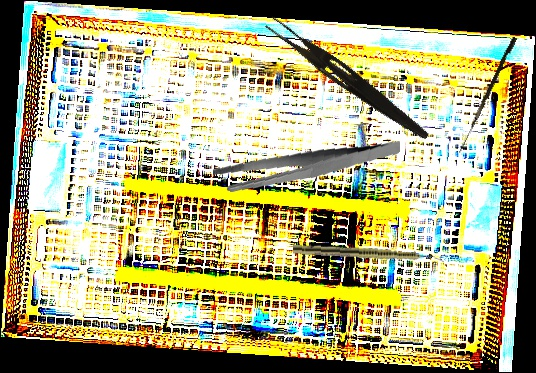Dressing Forceps: (260, 15, 436, 143), (211, 125, 401, 206)
Handpiece: (292, 244, 445, 264)
Hook Surgical: (458, 35, 518, 156)
